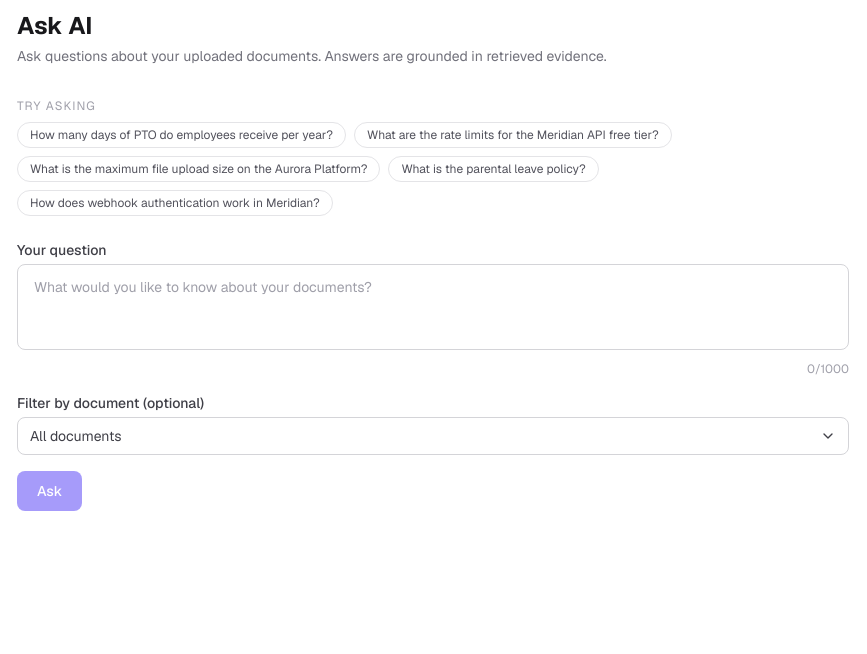
AskPage › renders insufficient evidence on cannotAnswer
Type "Unknown question" into the text box with placeholder "What would you like to know about your documents?" at coordinates (433, 307), box top-left (17, 264), bottom-right (849, 350)
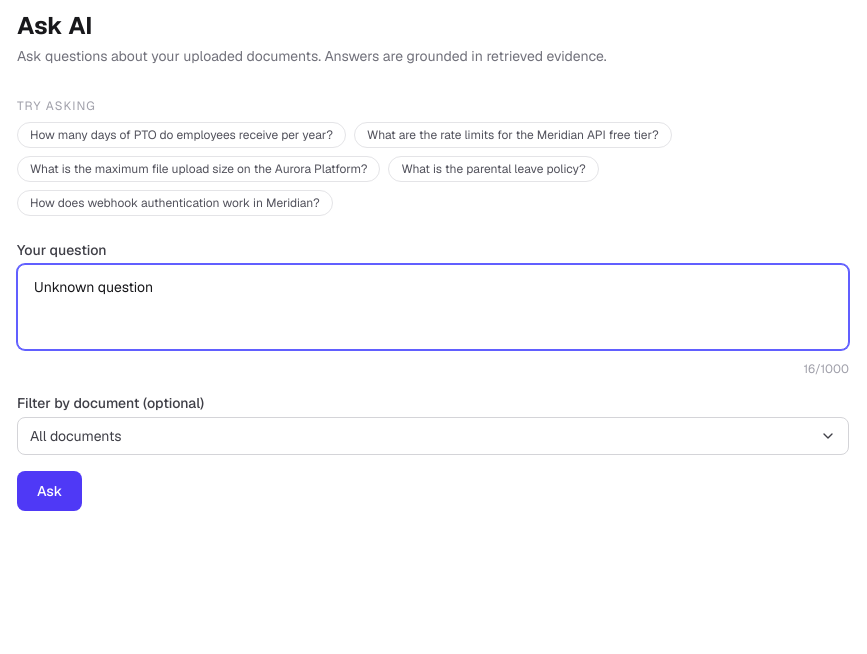
Click the button "Ask" at coordinates (50, 491), box top-left (17, 471), bottom-right (82, 511)
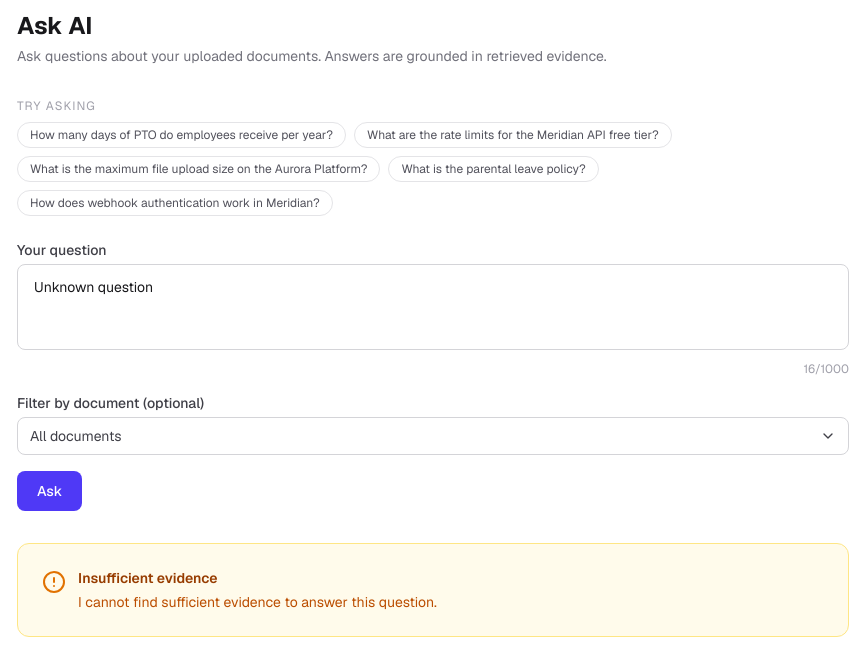
Check: the heading "Insufficient evidence" is shown, box top-left (78, 569), bottom-right (218, 587)
